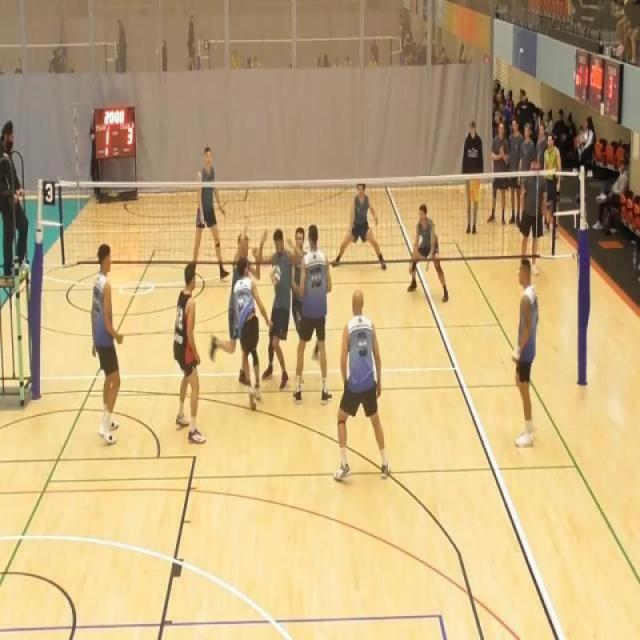volleyball: (270, 263, 282, 286)
